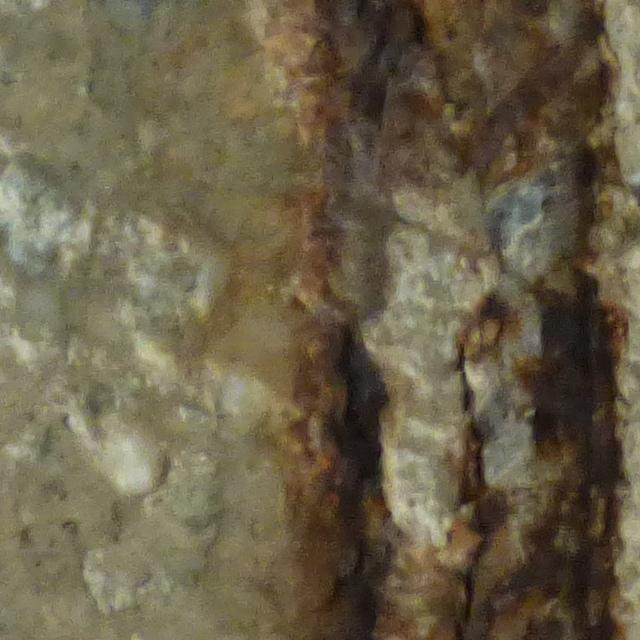Rust: (508, 1, 620, 640), (297, 2, 401, 640)
